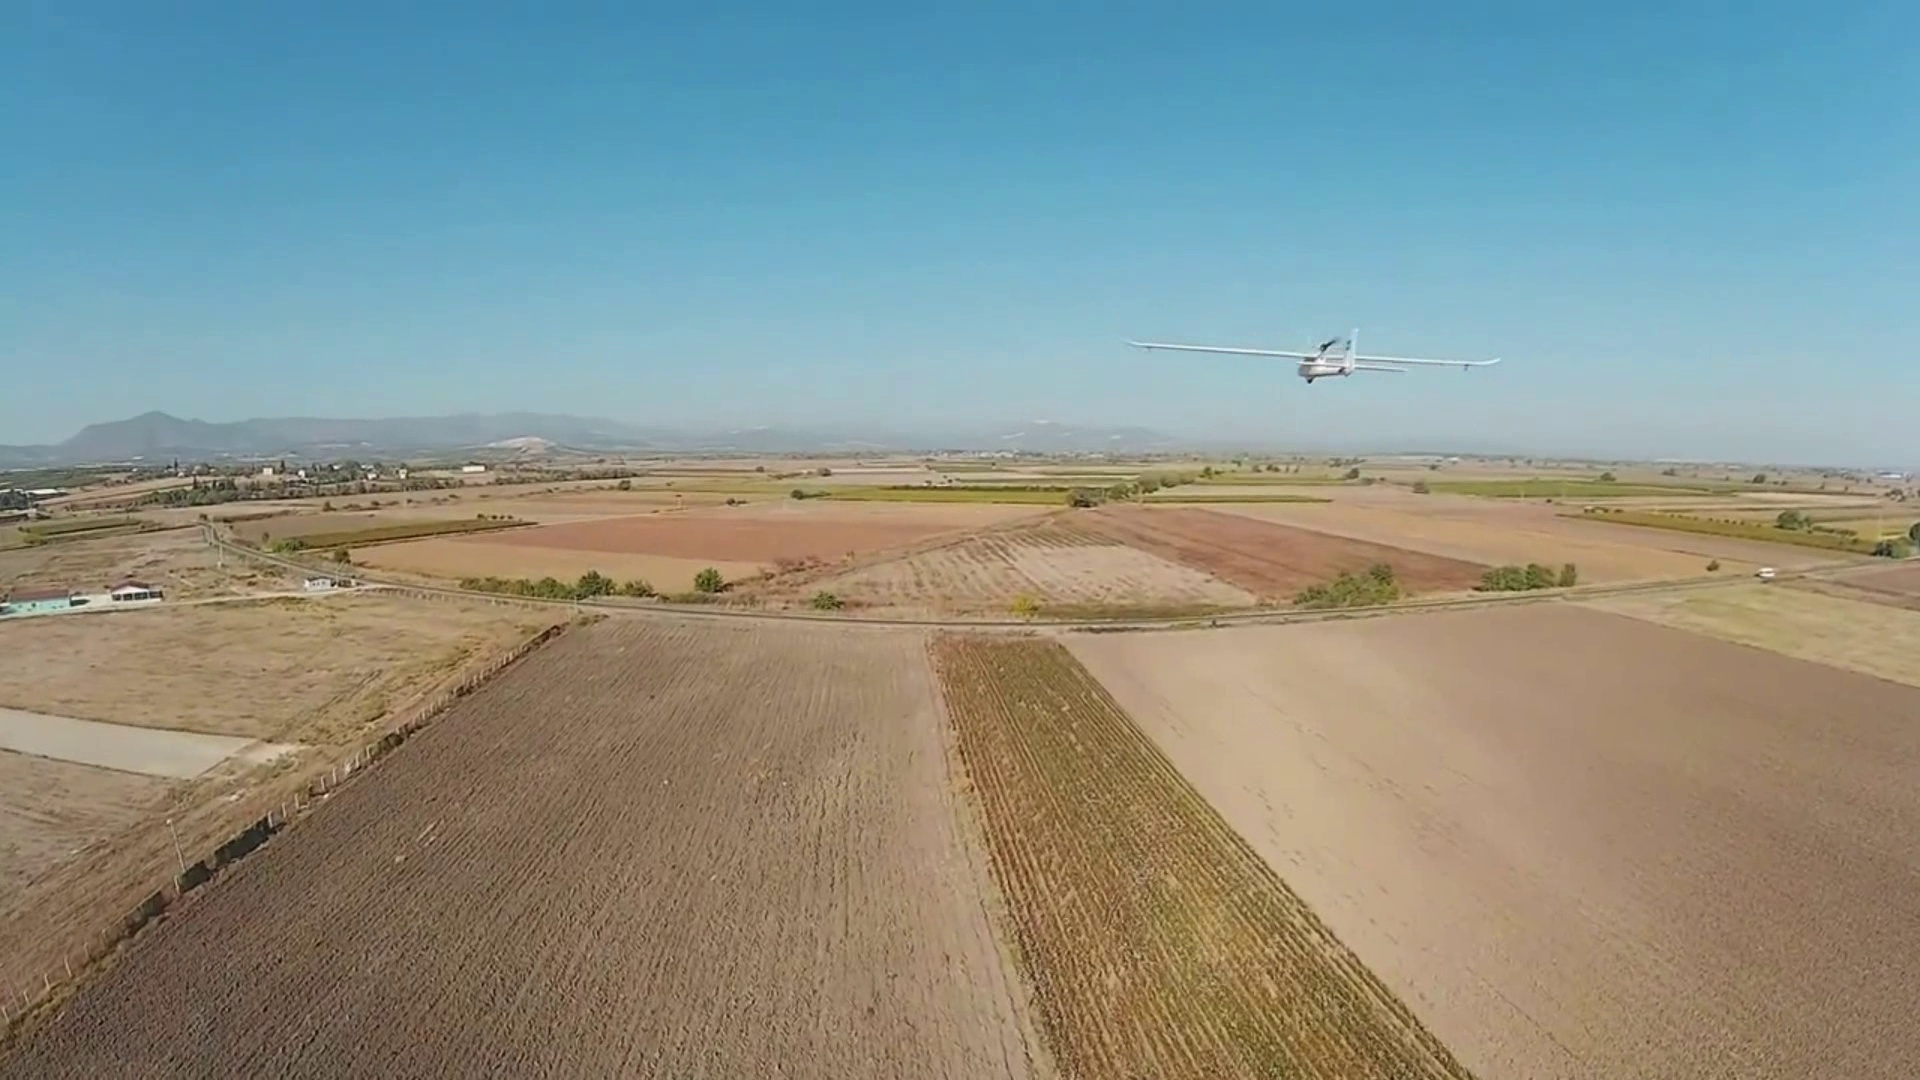airplane: (1129, 328, 1498, 381), (1119, 335, 1364, 382), (1295, 331, 1498, 384)
